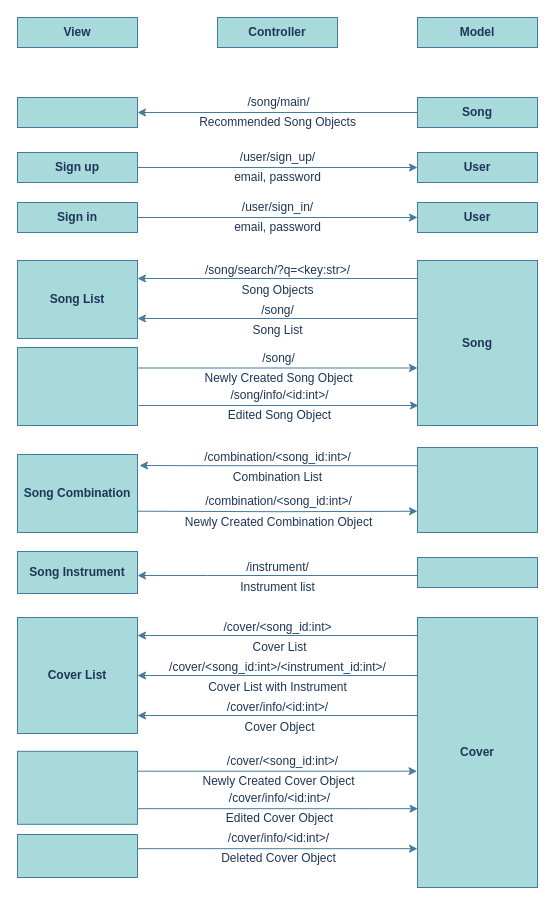
The diagram is 555 pixels wide and 905 high, and some of its shapes have lost their labels. Here are the shapes that lost their labels. From the top down, the box of each, then its label:
(16, 96, 138, 128): Main
(16, 346, 138, 426): Create Song
(416, 446, 538, 532): Combination
(416, 556, 538, 588): Instrument
(16, 750, 138, 824): Create Cover
(16, 834, 138, 878): Delete Cover
